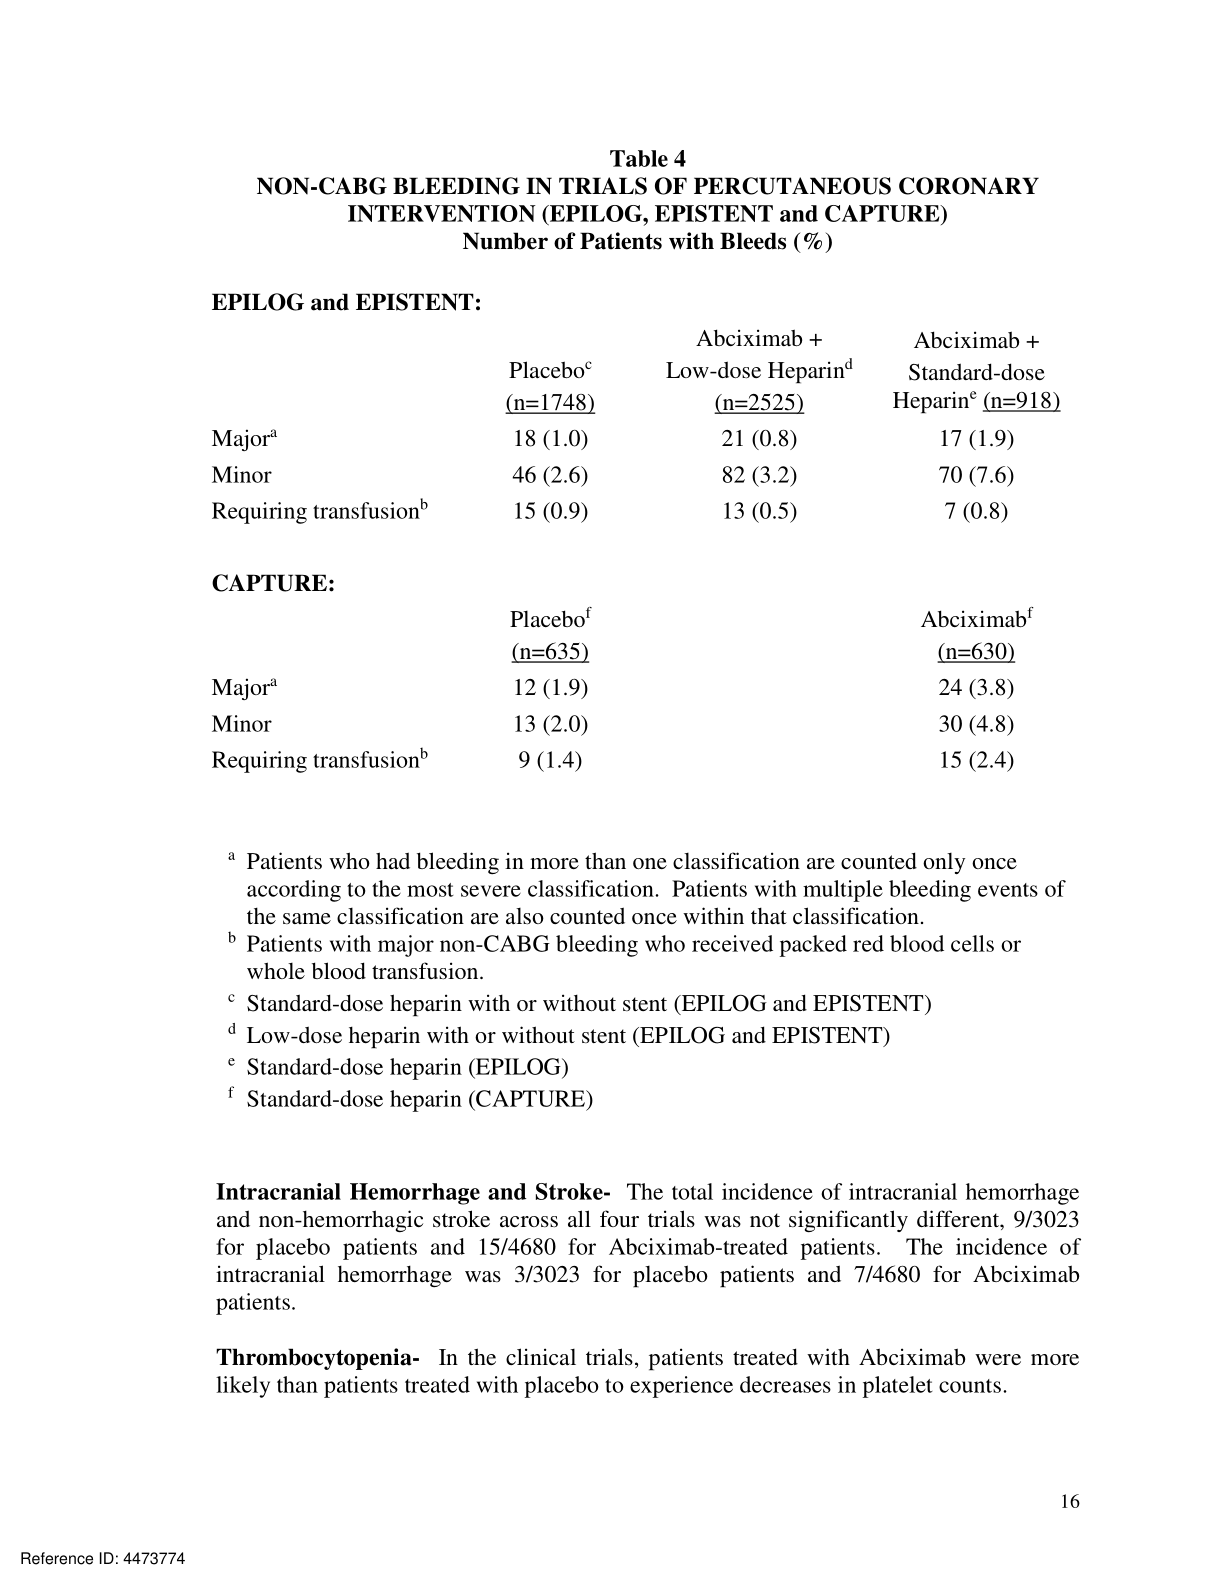nolines: (210, 324, 1062, 773)
